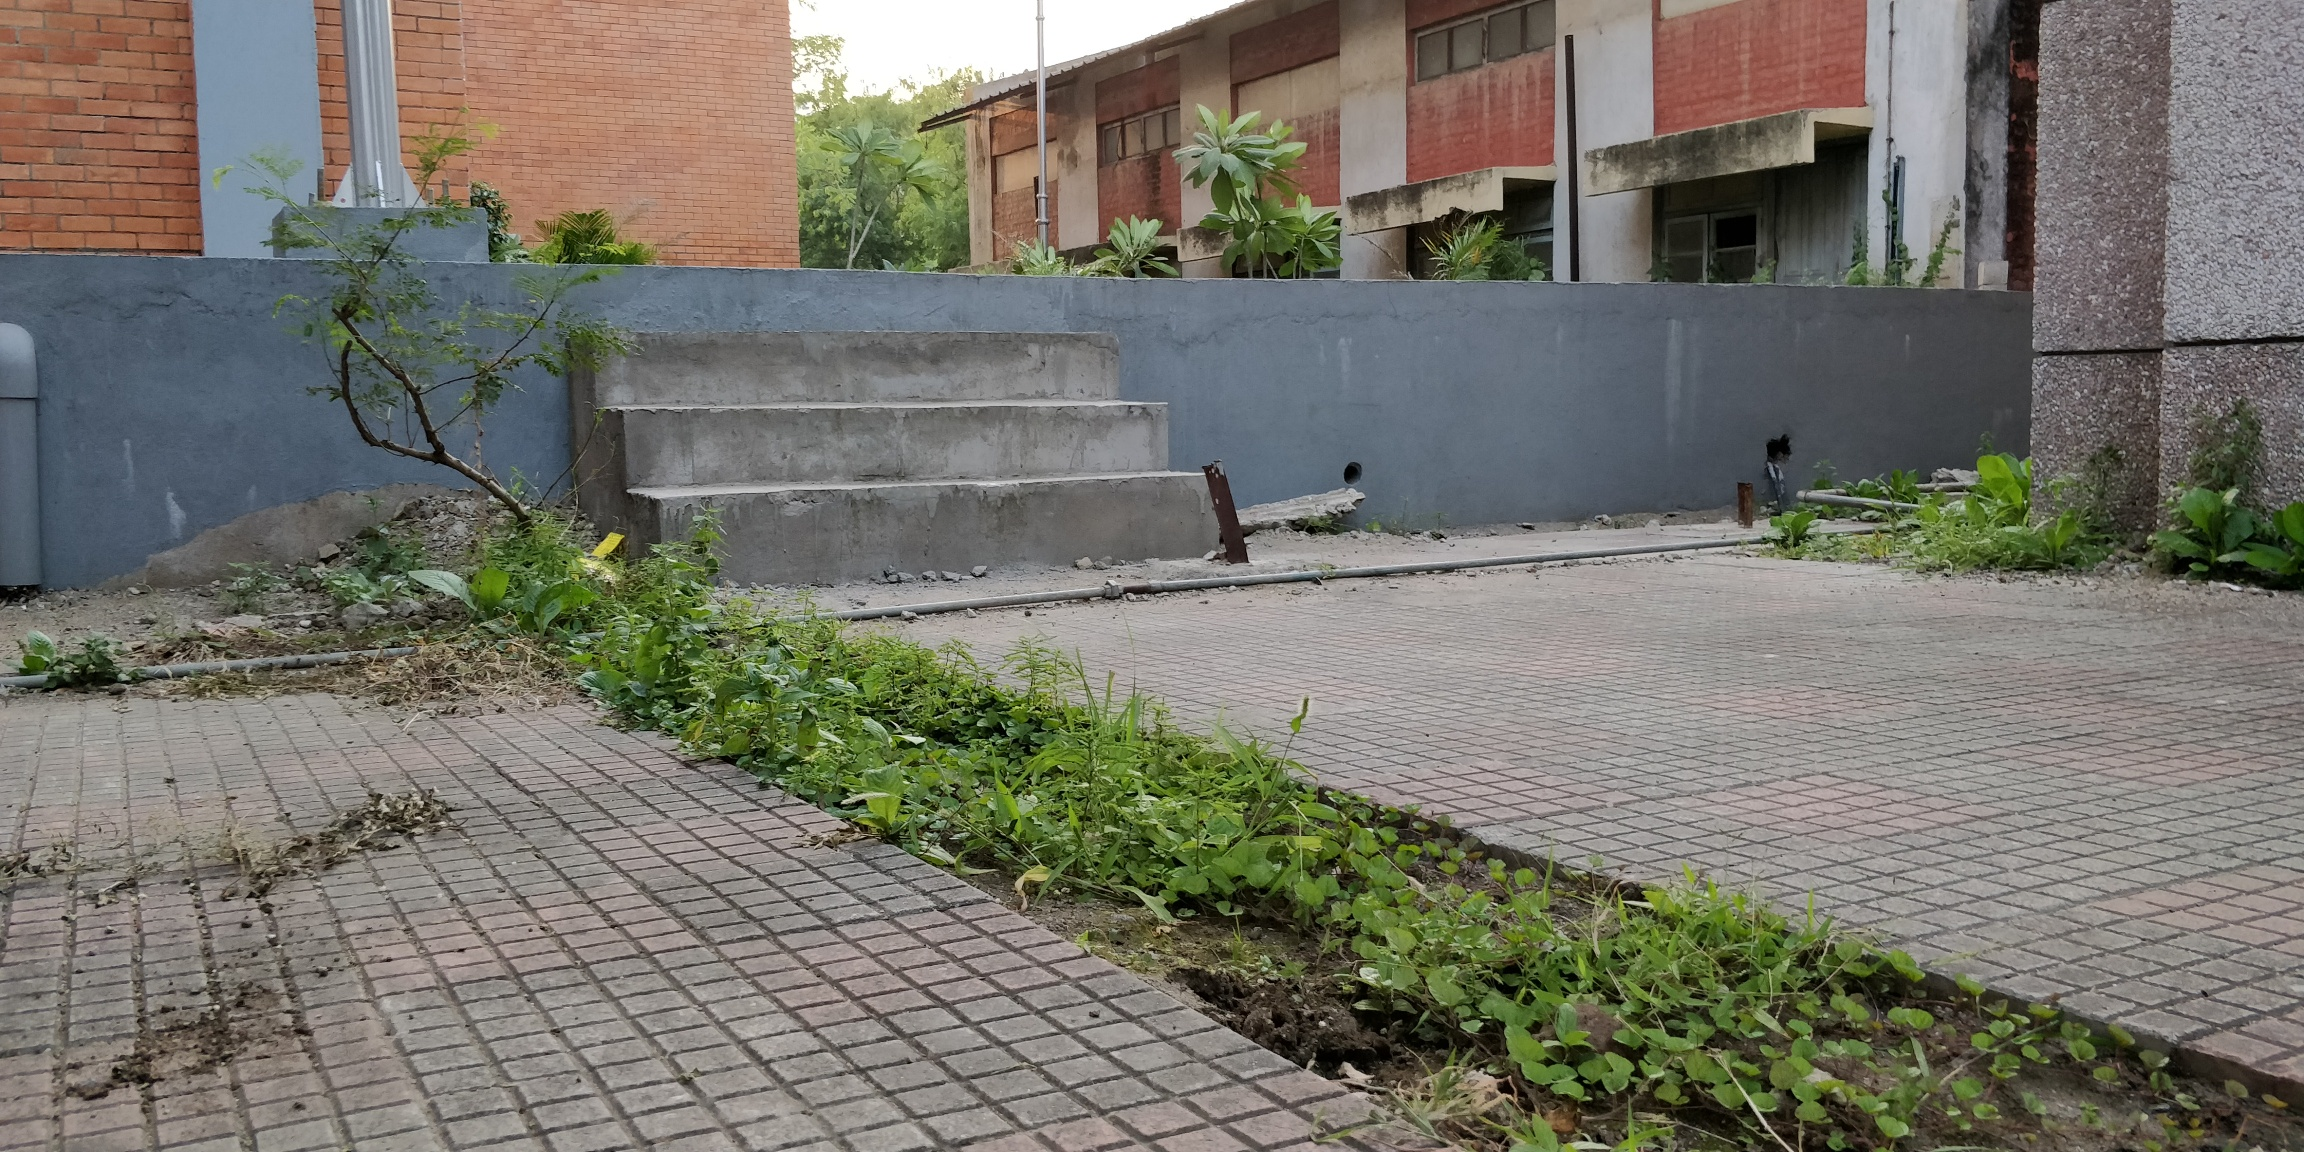stairs_up: (580, 353, 1206, 576)
